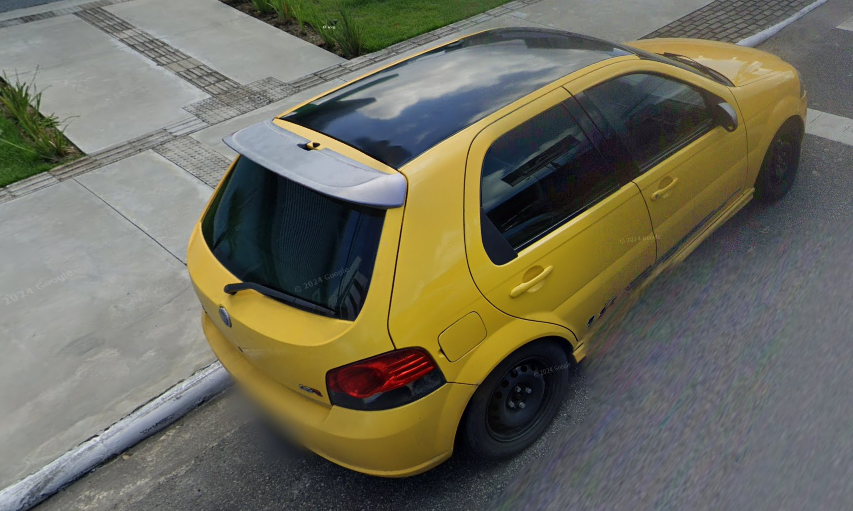car: (188, 21, 805, 479)
